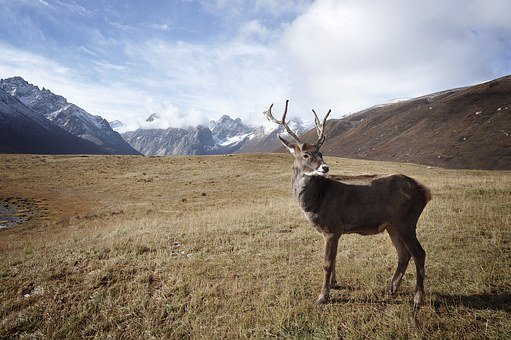field: (6, 153, 286, 340)
mountain: (5, 76, 260, 154)
sky: (1, 1, 510, 98)
